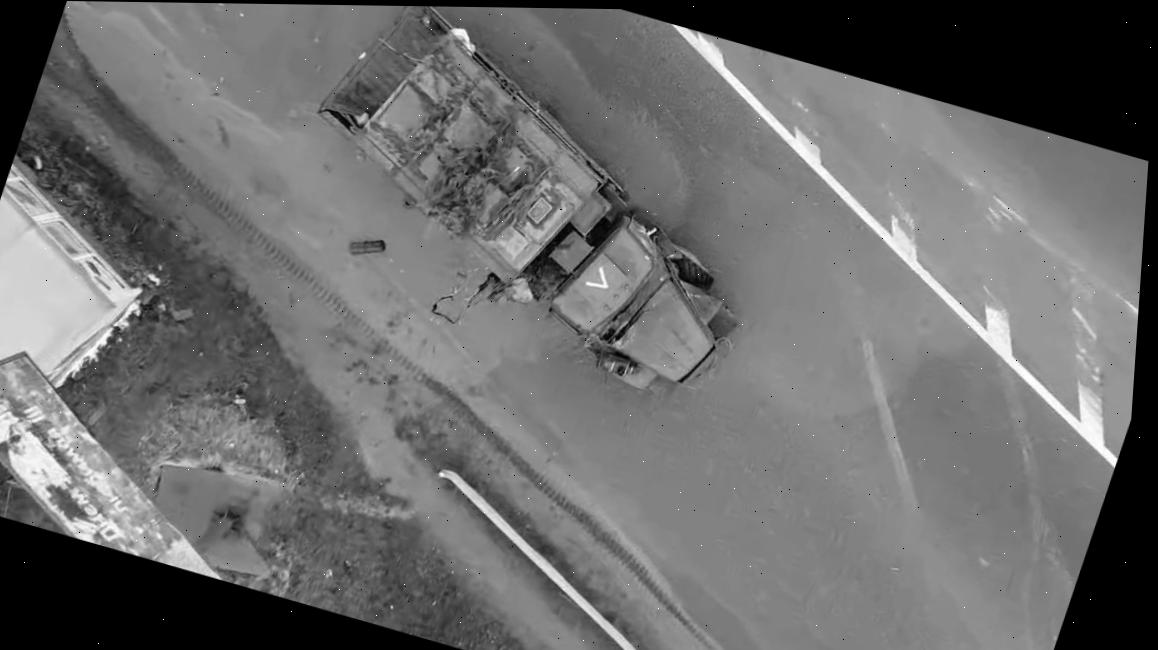truck: (251, 4, 820, 413)
